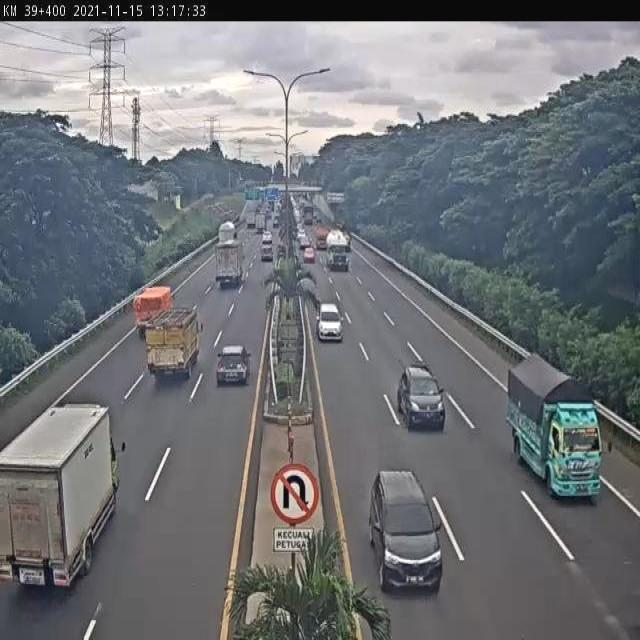Car: (368, 468, 444, 600), (396, 367, 446, 433), (214, 342, 252, 388), (315, 303, 346, 342), (304, 247, 315, 264)
Truck: (0, 402, 126, 602), (509, 356, 614, 500), (144, 308, 204, 380), (132, 284, 176, 343), (324, 227, 351, 273), (216, 248, 243, 291), (217, 222, 239, 250), (314, 221, 332, 249), (302, 203, 314, 225), (255, 213, 267, 234), (246, 210, 256, 229)
